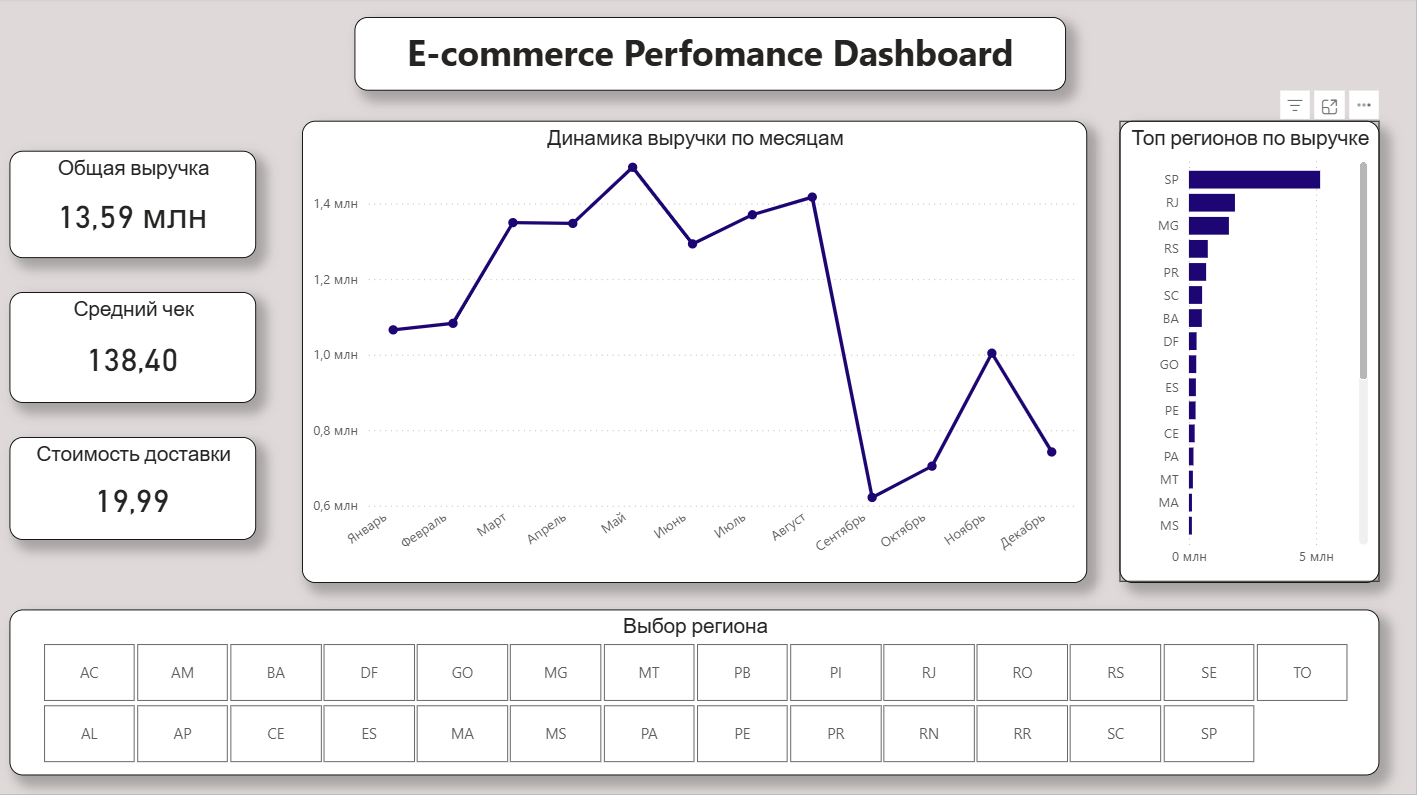

This screenshot's page, from the dashboard's own definition file:
{"tool":"powerbi","page":{"name":"Страница 1","canvas":[1280,720],"ordinal":0},"visuals":[{"type":"shape","box":[0,0,1280.3,720.4],"z":0},{"type":"card","title":"Общая выручка","fields":{"Values":["olist_order_items_dataset.Revenue"]},"box":[10.8,138.8,222.1,97.2],"z":1000},{"type":"clusteredBarChart","title":"Топ регионов по выручке","fields":{"Category":["olist_customers_dataset.customer_state"],"Y":["olist_order_items_dataset.Revenue"]},"box":[1011.9,111.1,234.5,416.5],"z":2000},{"type":"lineChart","title":"Динамика выручки по месяцам","fields":{"Y":["olist_order_items_dataset.Revenue"],"Category":["Calendar.Month Name"]},"box":[274.6,111.1,708,416.5],"z":3000},{"type":"card","title":"Средний чек","fields":{"Values":["olist_order_items_dataset.AOV"]},"box":[10.8,266.1,222.1,100.3],"z":4000},{"type":"slicer","title":"Выбор региона","fields":{"Values":["olist_customers_dataset.customer_state"]},"box":[10.8,552.2,1235.6,149.6],"z":5000},{"type":"card","title":"Стоимость доставки","fields":{"Values":["olist_order_items_dataset.Avg Freight"]},"box":[10.8,396.4,222.1,92.6],"z":6000},{"type":"textbox","box":[322.4,18.5,641.7,66.3],"z":7000}]}

Visuals, with their boxes in screenshot pixels (x1, y1, x2, y2), scaled from the page's 1280x720 canvas onto the 1417x795 screenshot:
shape: [0,0,1416,794]
"Общая выручка" card: [12,153,258,261]
"Топ регионов по выручке" clusteredBarChart: [1120,123,1380,583]
"Динамика выручки по месяцам" lineChart: [304,123,1088,583]
"Средний чек" card: [12,294,258,405]
"Выбор региона" slicer: [12,610,1380,775]
"Стоимость доставки" card: [12,438,258,540]
textbox: [357,20,1067,94]
